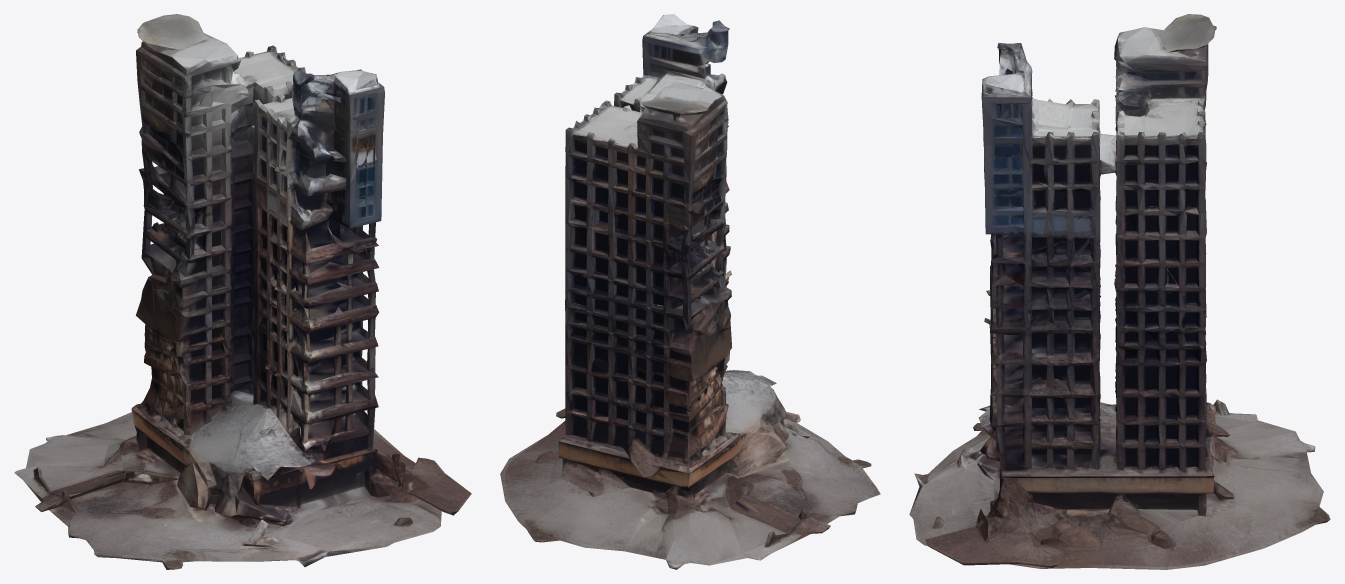
3 views of the same model, side by side, from view 1: azimuth 30°, elevation 25°; view 2: azimuth 150°, elevation 25°; view 3: azimuth 270°, elevation 25° (orthographic). The views are drawn at different scales.
Visible parts, largest first — view 1: node_0.027; view 2: node_0.027; view 3: node_0.027.
Part boxes in pixels (x1,y1,x2,y2): node_0.027: [14, 14, 471, 569]; node_0.027: [500, 14, 880, 569]; node_0.027: [909, 14, 1330, 569].
Bounding box in the file's own units: 4.21 × 5.3 × 4.37.
1 material, 1 textured.
